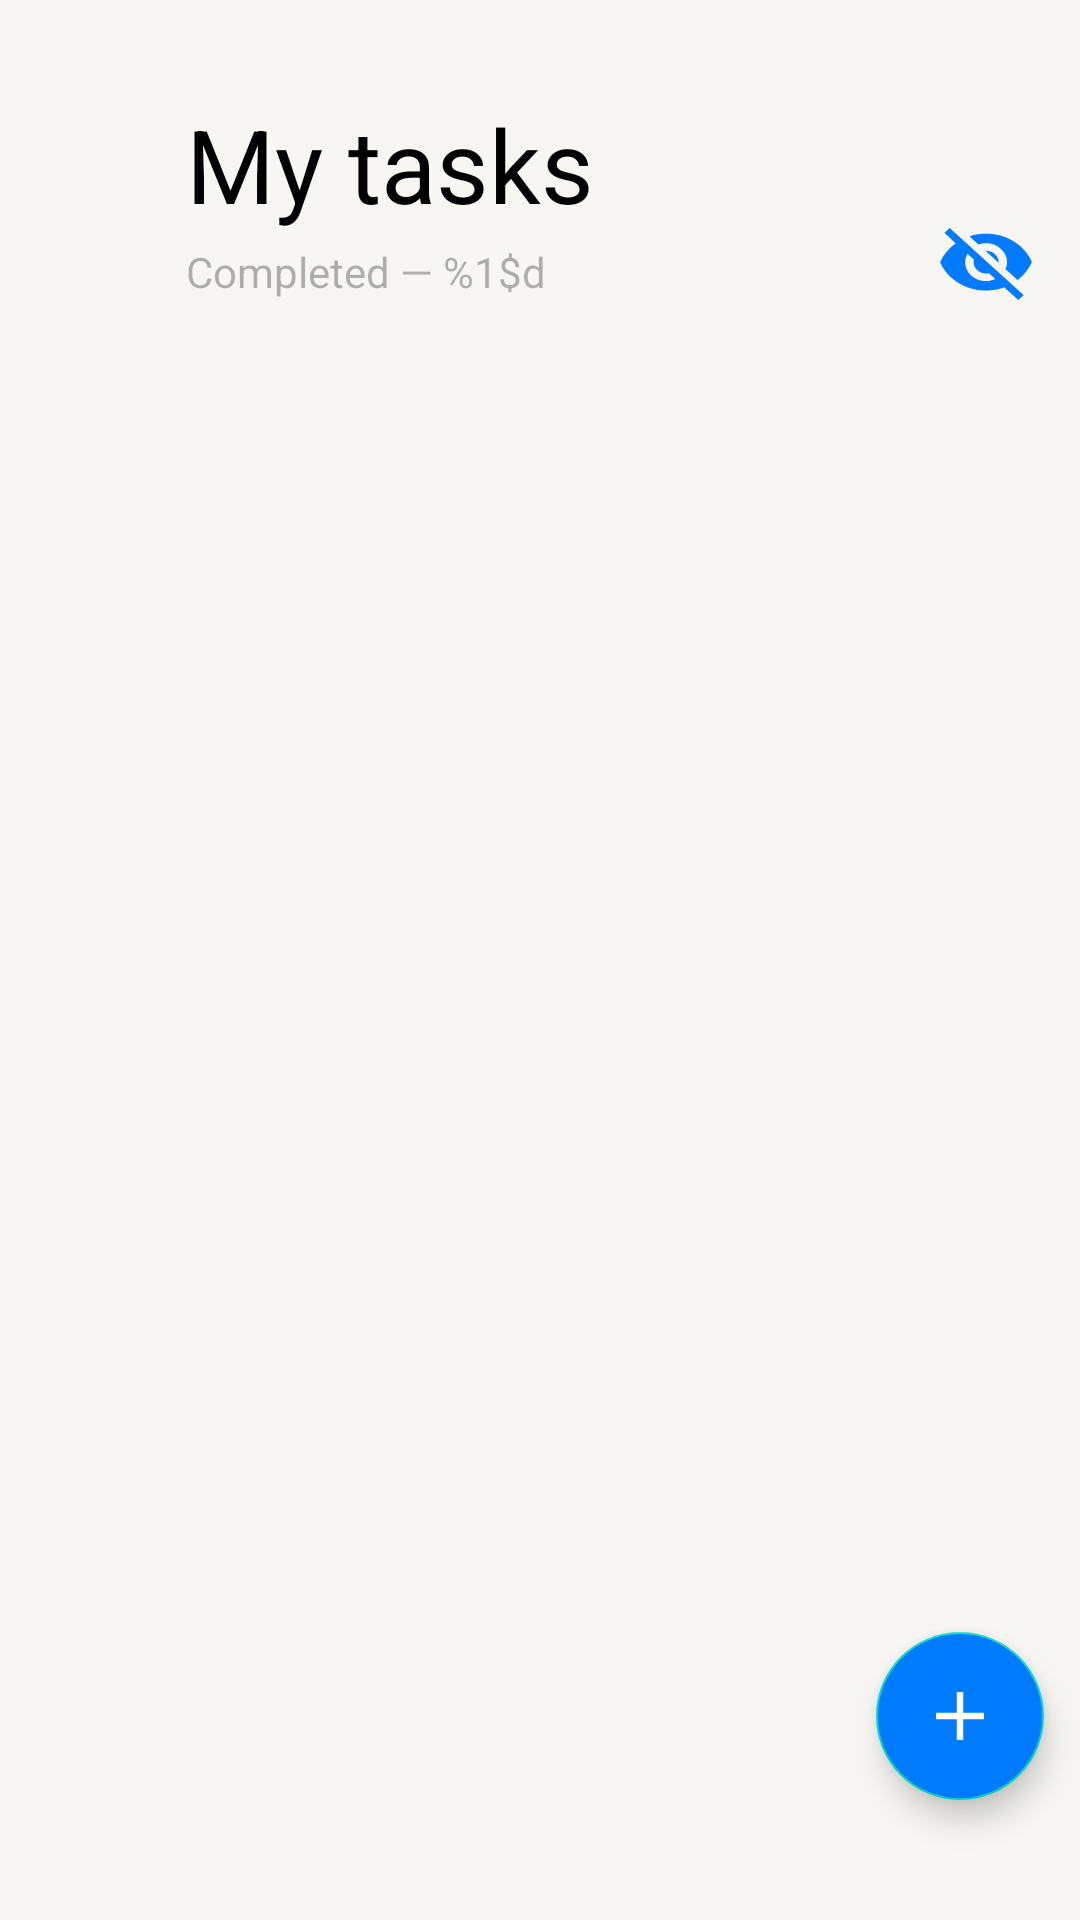

Named icons in this screenshot (1080 x 1920) and their bounding boxes, (x1, y1, x2, y2):
New: (876, 1632, 1044, 1800)
